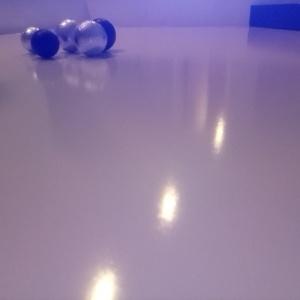alive_ball: (73, 20, 108, 57), (55, 19, 84, 53), (20, 26, 44, 53)
dead_ball: (89, 18, 117, 52), (31, 29, 60, 58)
